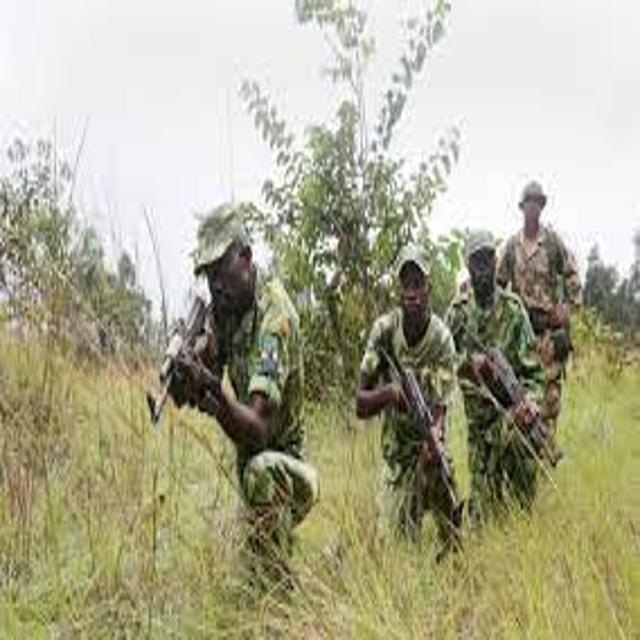gun: (355, 331, 480, 548), (463, 325, 569, 498), (128, 284, 222, 434)
ranger: (128, 189, 345, 616), (319, 225, 505, 578), (411, 208, 601, 544), (480, 161, 597, 446)
